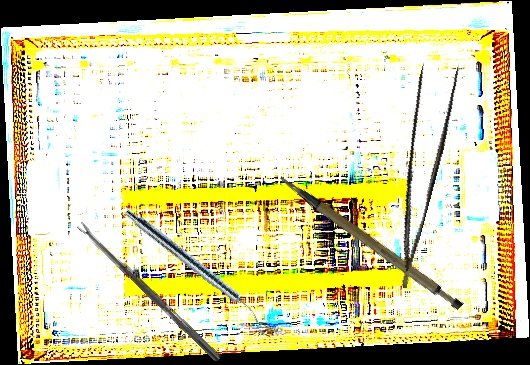Handpiece: (120, 206, 267, 325)
Scalpel Handle: (280, 150, 466, 332)
Surgical Spoon: (76, 220, 223, 363)
Tissue Forceps: (365, 54, 467, 289)
